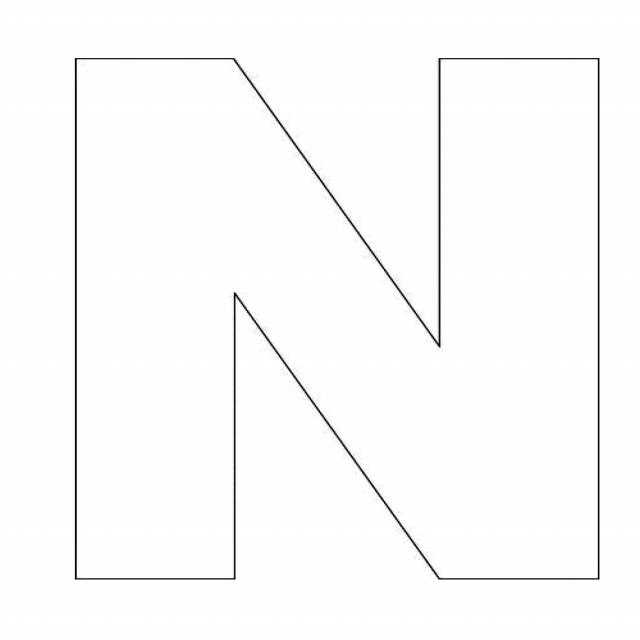N: (34, 19, 628, 606)
